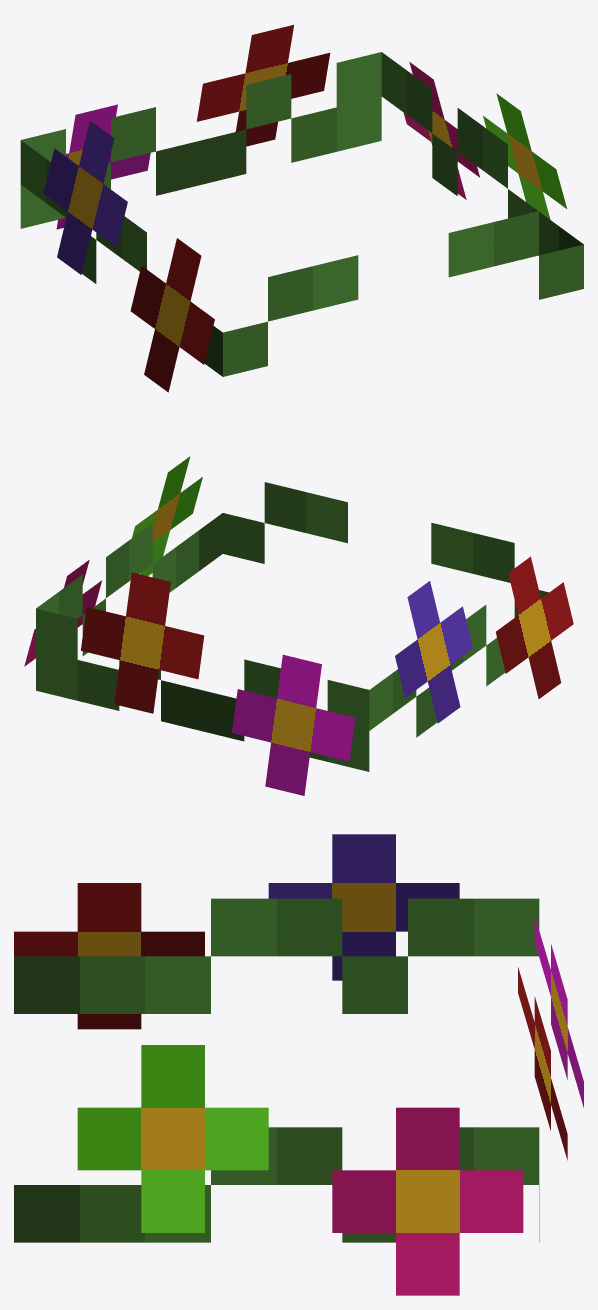
Rendered from flower_crown.glb.
3 views of the same model, one above another, from view 1: azimuth 30°, elevation 25°; view 2: azimuth 150°, elevation 25°; view 3: azimuth 270°, elevation 25° (orthographic). The views are drawn at different scales.
Visible parts, largest first — view 1: flower_crown_part_6, flower_crown_part_2, flower_crown_part_3, flower_crown_part_0, flower_crown_part_4, flower_crown_part_1, flower_crown_part_5; view 2: flower_crown_part_6, flower_crown_part_0, flower_crown_part_1, flower_crown_part_3, flower_crown_part_2, flower_crown_part_4, flower_crown_part_5; view 3: flower_crown_part_6, flower_crown_part_4, flower_crown_part_5, flower_crown_part_2, flower_crown_part_3, flower_crown_part_0, flower_crown_part_1.
Boxes of the visible parts, left/top/right/bottom form: flower_crown_part_6: left=20, top=52, right=583, bottom=376; flower_crown_part_2: left=43, top=121, right=127, bottom=274; flower_crown_part_3: left=130, top=238, right=214, bottom=392; flower_crown_part_0: left=196, top=25, right=330, bottom=146; flower_crown_part_4: left=483, top=93, right=566, bottom=219; flower_crown_part_1: left=56, top=104, right=150, bottom=229; flower_crown_part_5: left=403, top=62, right=479, bottom=199; flower_crown_part_6: left=36, top=482, right=548, bottom=771; flower_crown_part_0: left=81, top=572, right=204, bottom=713; flower_crown_part_1: left=232, top=654, right=355, bottom=795; flower_crown_part_3: left=496, top=556, right=573, bottom=698; flower_crown_part_2: left=395, top=581, right=472, bottom=723; flower_crown_part_4: left=132, top=456, right=202, bottom=576; flower_crown_part_5: left=24, top=560, right=102, bottom=666; flower_crown_part_6: left=14, top=898, right=539, bottom=1242; flower_crown_part_4: left=77, top=1045, right=268, bottom=1232; flower_crown_part_5: left=332, top=1107, right=523, bottom=1295; flower_crown_part_2: left=268, top=834, right=459, bottom=980; flower_crown_part_3: left=14, top=883, right=204, bottom=1029; flower_crown_part_0: left=518, top=967, right=567, bottom=1160; flower_crown_part_1: left=534, top=916, right=583, bottom=1107.
Size of the model in its own units: 0.6192 by 0.2415 by 0.5596.
1 material, 1 textured.
